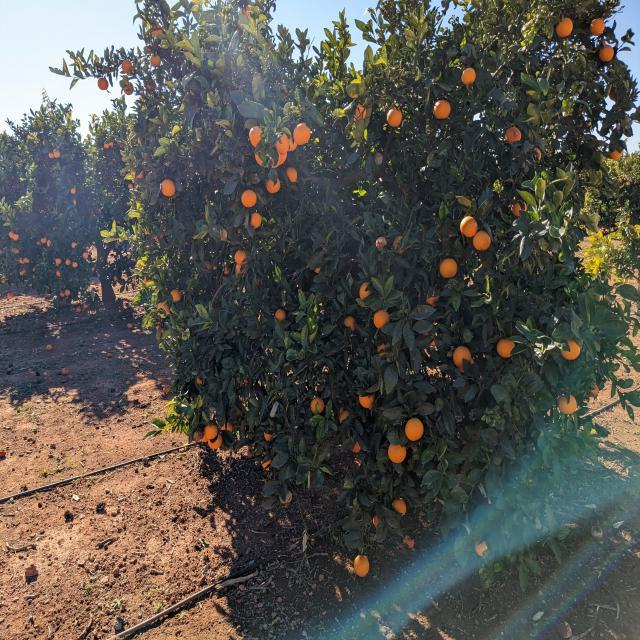Jeruk Sudah Matang: (404, 419, 426, 440), (388, 444, 409, 464), (564, 342, 584, 362), (560, 396, 580, 416), (354, 556, 372, 578), (453, 348, 472, 367), (558, 18, 576, 38), (472, 233, 492, 251), (294, 124, 312, 144), (460, 217, 478, 237), (496, 340, 514, 359), (503, 128, 523, 145), (434, 100, 452, 118), (441, 259, 458, 278), (248, 127, 264, 147), (274, 132, 288, 154), (388, 108, 405, 126), (374, 310, 390, 328), (242, 191, 258, 208), (591, 18, 607, 34), (462, 66, 476, 84), (208, 432, 222, 450), (601, 45, 616, 61), (394, 497, 409, 513), (250, 212, 264, 228), (355, 104, 369, 120), (234, 250, 248, 265), (286, 167, 300, 182), (204, 424, 218, 439), (266, 180, 282, 193), (360, 395, 376, 408), (163, 182, 177, 196), (309, 399, 323, 413), (271, 149, 281, 168), (361, 282, 372, 299), (509, 203, 522, 216), (426, 291, 439, 304), (610, 150, 622, 164), (255, 154, 267, 168), (122, 59, 134, 72), (151, 26, 164, 38), (288, 136, 298, 151), (274, 308, 286, 320), (345, 318, 357, 330), (476, 544, 488, 556), (171, 288, 181, 302), (242, 6, 252, 20), (404, 538, 416, 549), (98, 78, 109, 90), (340, 410, 350, 422), (151, 55, 162, 65), (280, 152, 288, 165), (372, 515, 382, 525), (353, 442, 363, 452), (124, 81, 133, 92), (160, 301, 169, 310), (194, 376, 203, 384), (238, 18, 243, 32), (264, 432, 272, 440), (241, 377, 249, 385), (262, 460, 270, 468), (226, 422, 233, 430), (13, 234, 20, 241), (312, 268, 320, 274), (24, 256, 30, 264), (9, 231, 15, 238), (82, 253, 89, 259), (40, 238, 46, 244), (72, 262, 78, 268), (54, 152, 60, 158), (66, 259, 71, 266), (65, 289, 70, 296), (48, 239, 52, 247), (49, 152, 54, 158), (8, 293, 13, 299), (56, 258, 61, 264), (72, 242, 77, 248), (19, 259, 24, 264), (104, 144, 109, 148), (114, 276, 118, 281), (109, 142, 114, 146), (92, 266, 95, 272), (60, 292, 64, 296)
